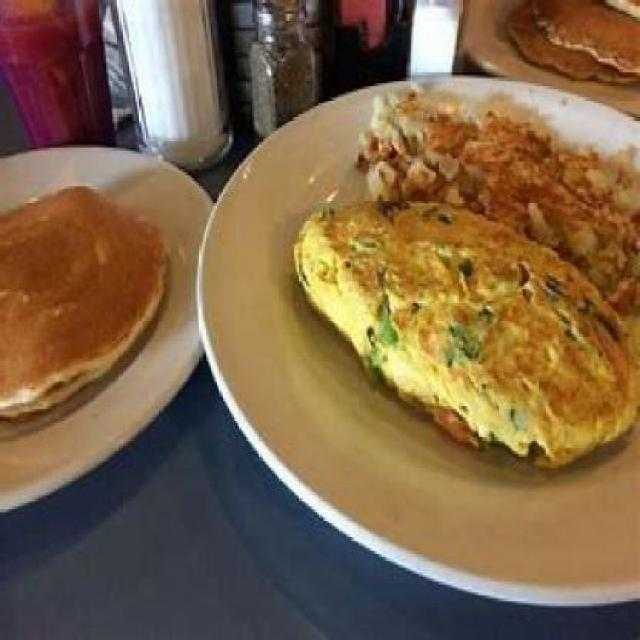omelette: (290, 192, 632, 454), (2, 174, 175, 428)
